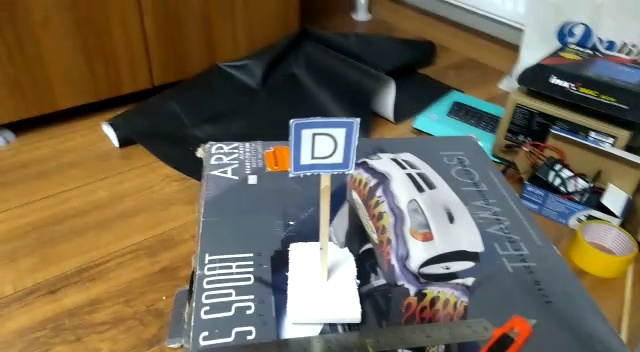durak: (294, 120, 350, 170)
